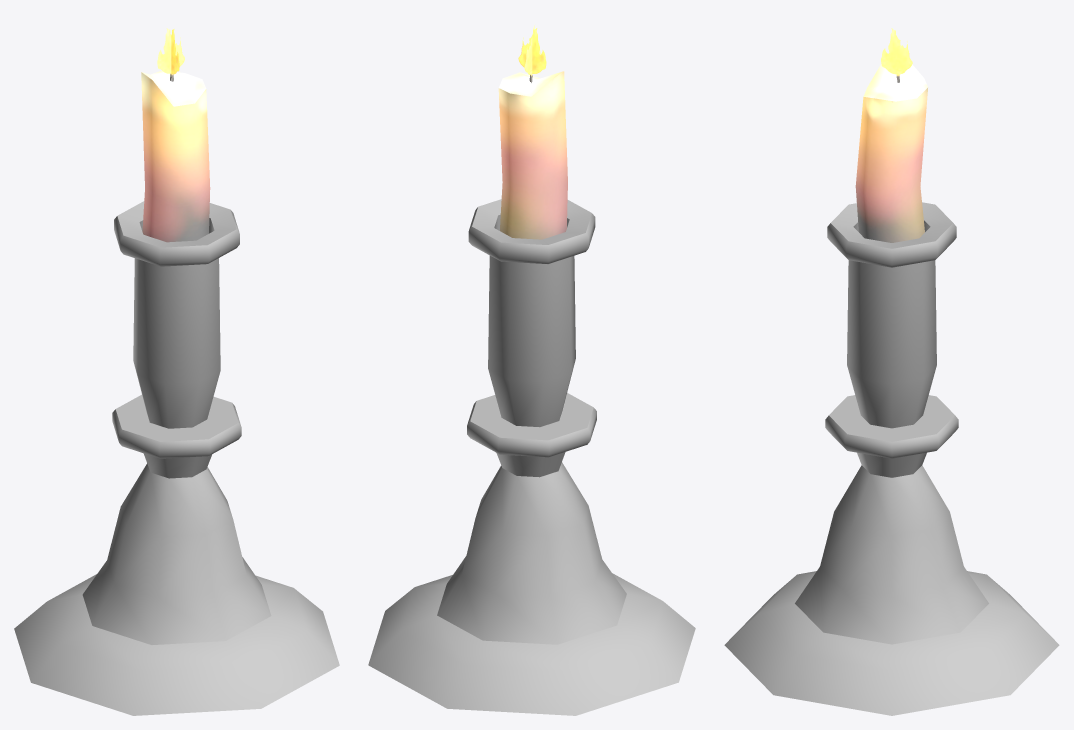
Rendered from Keriya_Son_Prop10.fbx.
The picture shows the model from 3 angles, left to right: view 1: azimuth 30°, elevation 25°; view 2: azimuth 150°, elevation 25°; view 3: azimuth 270°, elevation 25°; orthographic projection.
Parts seen in each view (by area): view 1: Cylinder001, Flame; view 2: Cylinder001, Flame; view 3: Cylinder001, Flame.
Part boxes in pixels (<box>): Cylinder001: <box>14,70,339,715</box>; Flame: <box>157,28,184,81</box>; Cylinder001: <box>368,71,695,715</box>; Flame: <box>518,25,546,82</box>; Cylinder001: <box>724,64,1059,715</box>; Flame: <box>881,28,912,82</box>.
Bounding box in the file's own units: 23.69 × 48.26 × 23.69.
